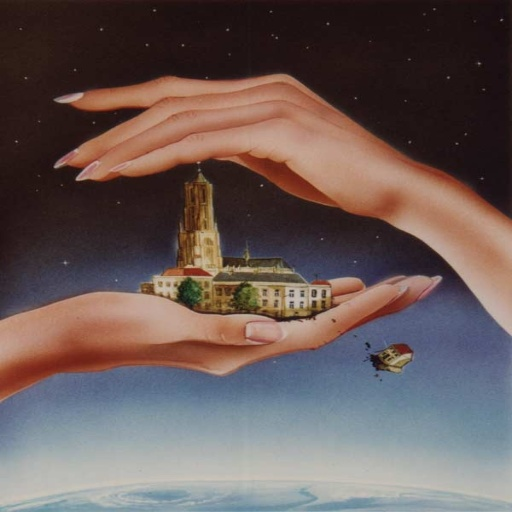hand: (61, 72, 492, 234), (52, 274, 445, 372)
